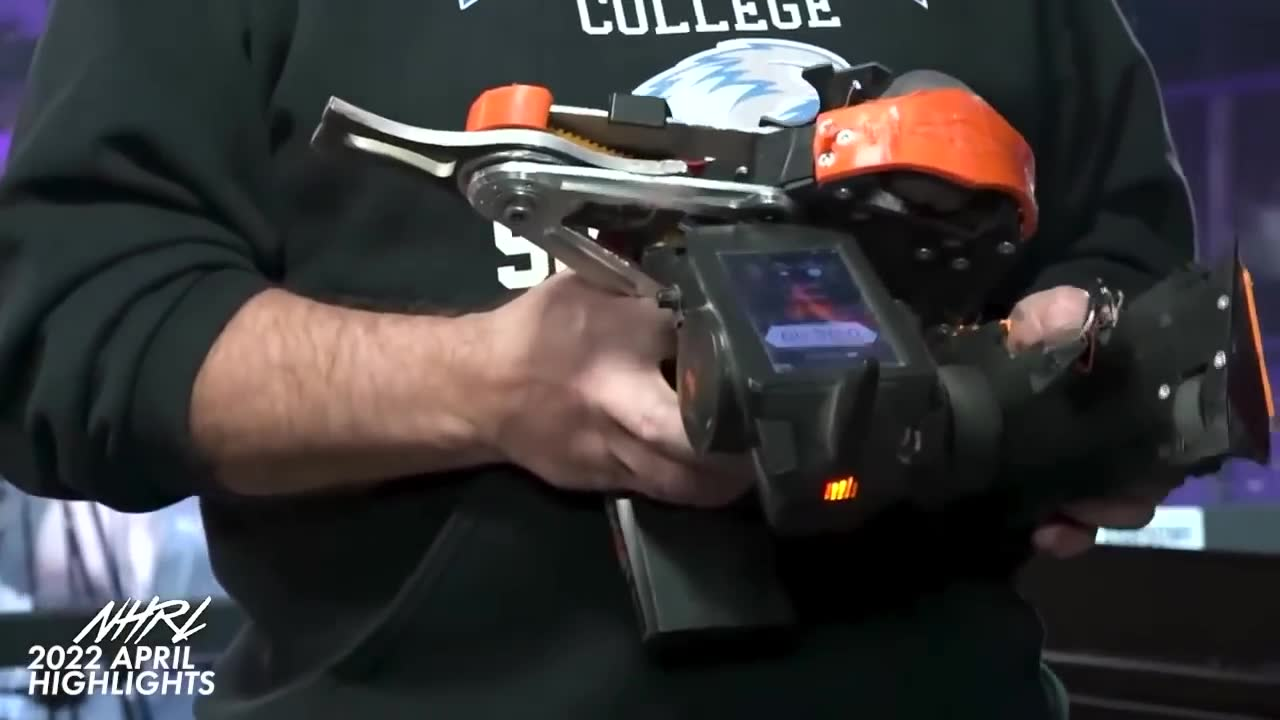combatbot: (308, 61, 1041, 310)
